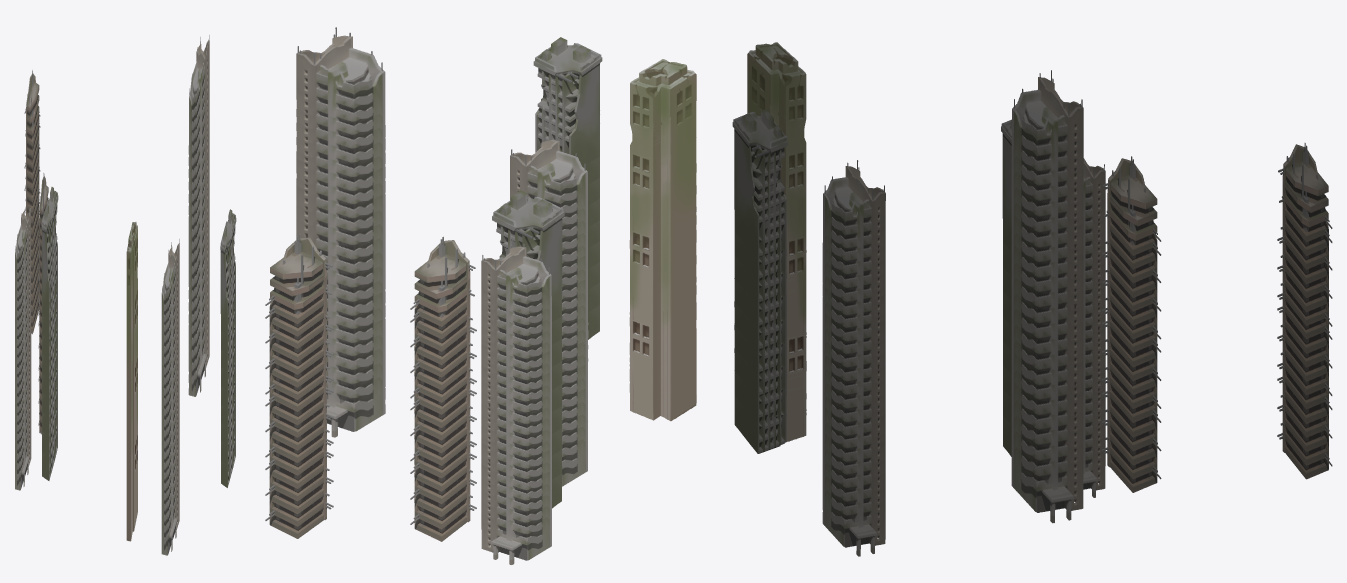
Rendered from Main_1005_obj_04.fbx.
3 views of the same model, side by side, from view 1: azimuth 30°, elevation 25°; view 2: azimuth 150°, elevation 25°; view 3: azimuth 270°, elevation 25° (orthographic). The views are drawn at different scales.
Parts seen in each view (by area): view 1: Main_1003_Tex_01_05.002, Main_1003_Tex_01_05.005, Main_1003_Tex_01_05.003, Main_1003_Tex_01_07.003, Main_1003_Tex_01_07.002, Main_1005_Tex_13, Main_1003_Tex_01_06.003, Main_1003_Tex_01_06.004; view 2: Main_1003_Tex_01_05.002, Main_1005_Tex_13, Main_1003_Tex_01_05.003, Main_1003_Tex_01_06.003, Main_1003_Tex_01_06.004, Main_1003_Tex_01_05.005, Main_1003_Tex_01_07.002, Main_1003_Tex_01_07.003; view 3: Main_1003_Tex_01_05.002, Main_1003_Tex_01_05.005, Main_1003_Tex_01_07.002, Main_1003_Tex_01_06.004, Main_1003_Tex_01_06.003, Main_1005_Tex_13, Main_1003_Tex_01_05.003, Main_1003_Tex_01_07.003.
Part boxes in pixels (x1,y1,x2,y2): Main_1003_Tex_01_05.002: (188, 35, 209, 396); Main_1003_Tex_01_05.005: (161, 239, 179, 555); Main_1003_Tex_01_05.003: (15, 207, 31, 490); Main_1003_Tex_01_07.003: (41, 187, 58, 480); Main_1003_Tex_01_07.002: (220, 209, 236, 487); Main_1005_Tex_13: (126, 222, 137, 541); Main_1003_Tex_01_06.003: (24, 70, 40, 334); Main_1003_Tex_01_06.004: (38, 173, 48, 434); Main_1003_Tex_01_05.002: (296, 27, 385, 437); Main_1005_Tex_13: (629, 59, 696, 421); Main_1003_Tex_01_05.003: (481, 240, 551, 564); Main_1003_Tex_01_06.003: (265, 234, 333, 538); Main_1003_Tex_01_06.004: (410, 236, 476, 541); Main_1003_Tex_01_05.005: (510, 132, 588, 486); Main_1003_Tex_01_07.002: (533, 37, 602, 339); Main_1003_Tex_01_07.003: (492, 190, 564, 508); Main_1003_Tex_01_05.002: (1011, 70, 1083, 523); Main_1003_Tex_01_05.005: (822, 160, 885, 556); Main_1003_Tex_01_07.002: (732, 109, 787, 453); Main_1003_Tex_01_06.004: (1101, 156, 1161, 492); Main_1003_Tex_01_06.003: (1277, 143, 1332, 479); Main_1005_Tex_13: (747, 42, 806, 441); Main_1003_Tex_01_05.003: (1083, 158, 1105, 497); Main_1003_Tex_01_07.003: (1001, 119, 1011, 456).
Bounding box in the file's own units: 294 × 562 × 547.
